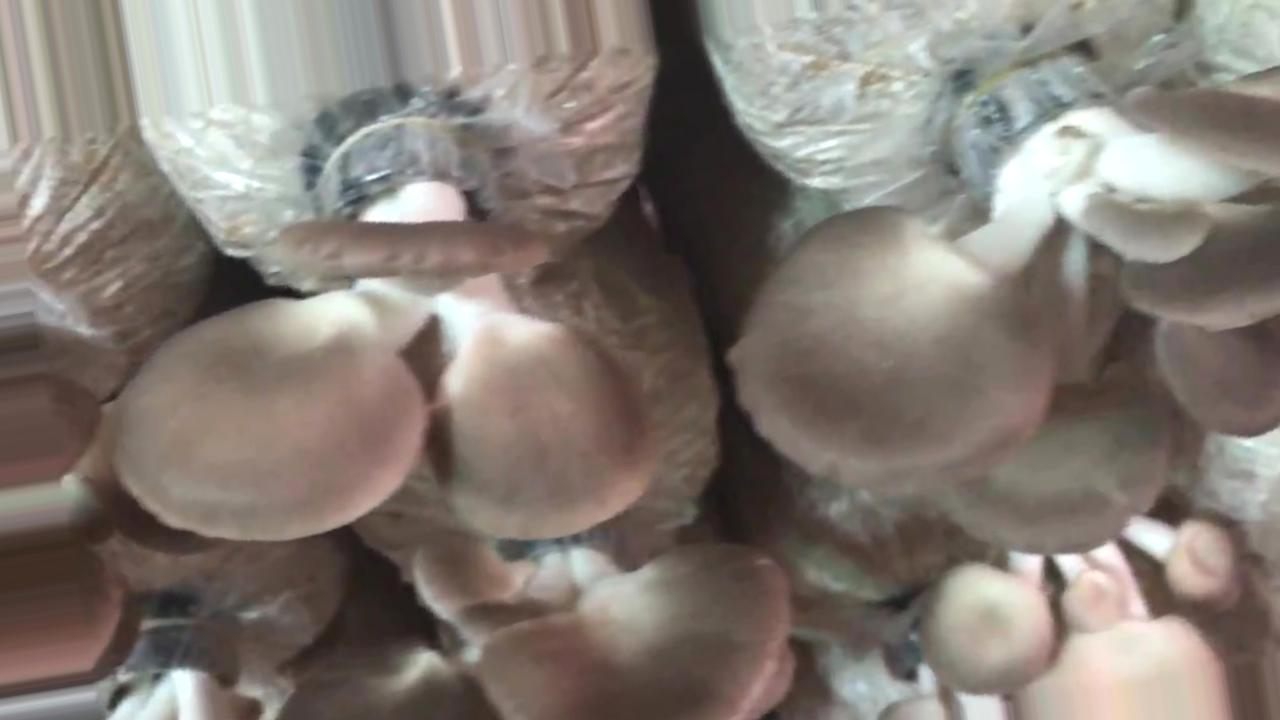nam: (738, 62, 1280, 552), (118, 121, 653, 543), (923, 514, 1230, 720), (482, 538, 789, 720)
